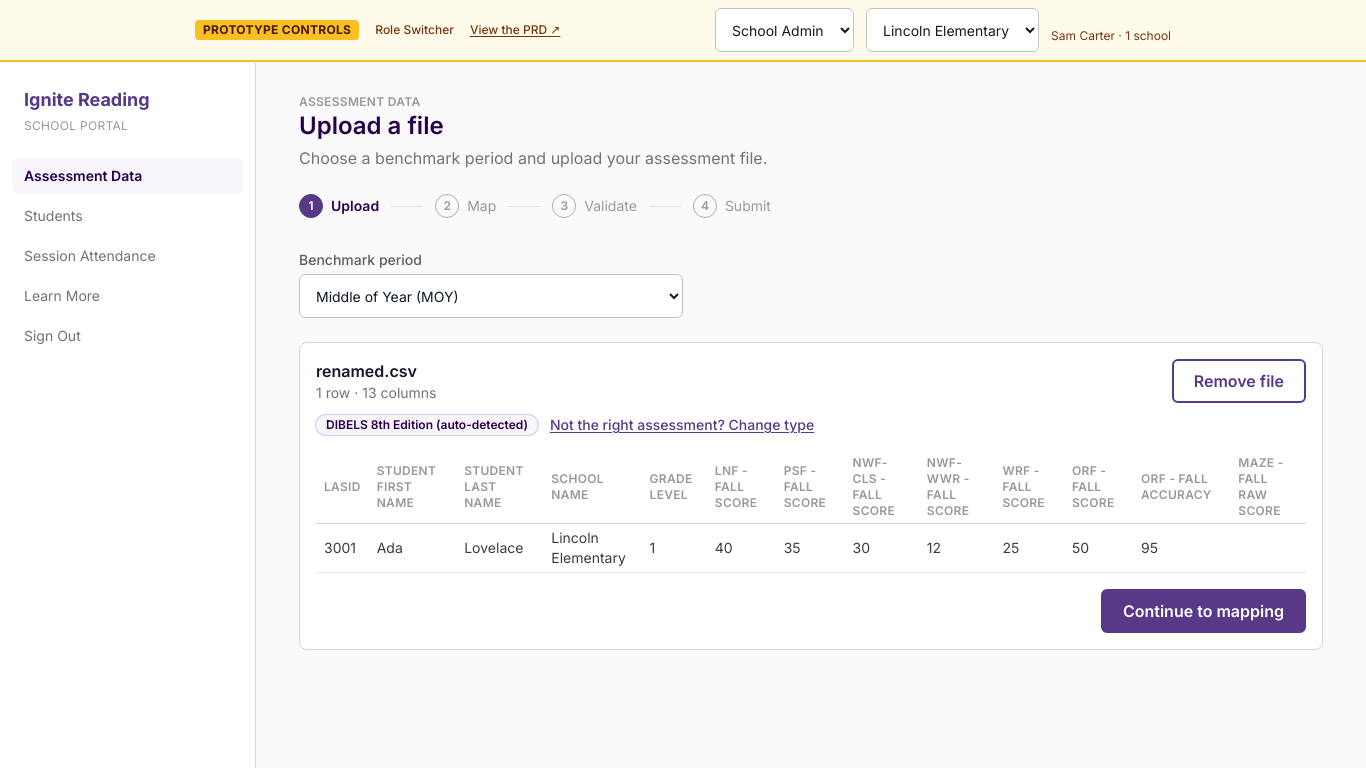
Test: US2: column mapping › auto-maps renamed headers via synonyms at High confidence
Earlier steps of the test are not shown.
Step 1. Click the button "Continue to mapping" → [1204, 611], box [1101,589,1306,633]
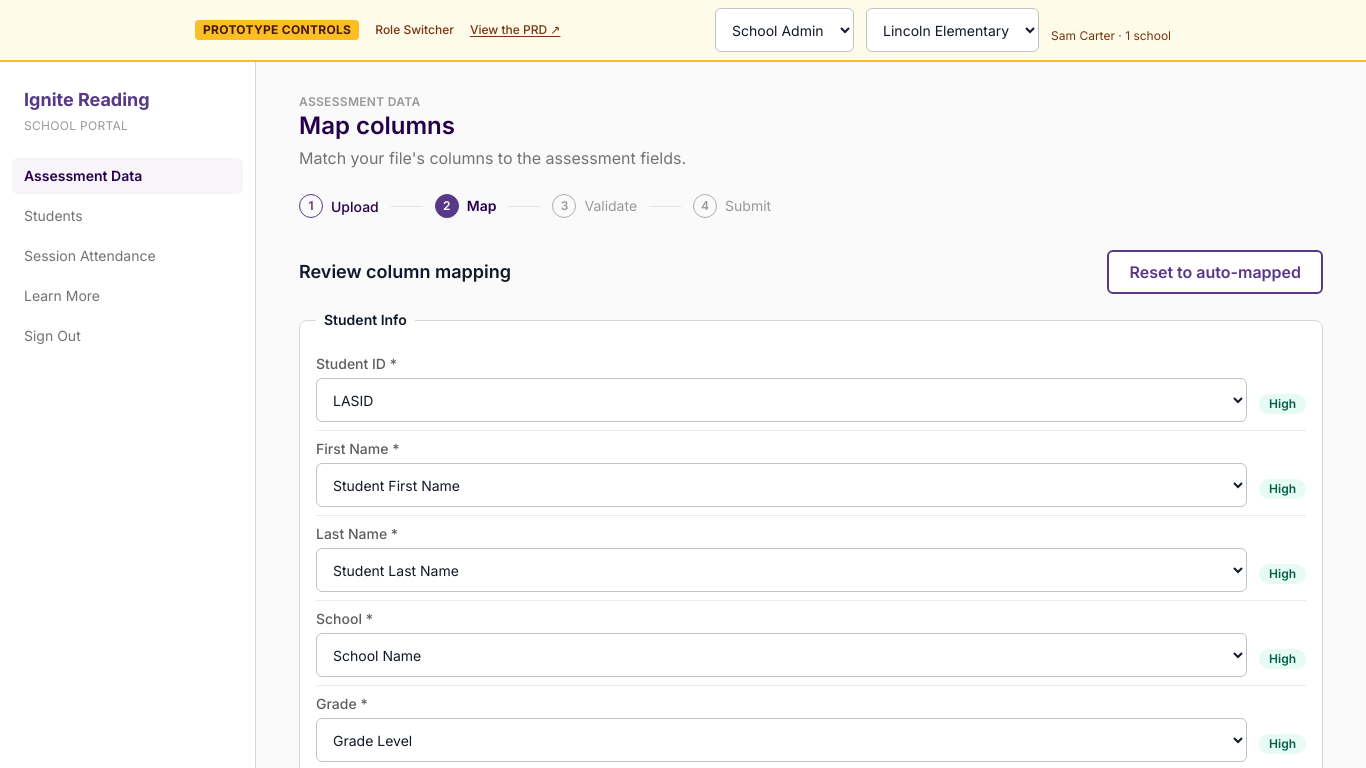
Result: the heading "Review column mapping" is shown at [299,258,511,286]
Result: the dropdown labelled "Student ID *" shows "LASID" at [316,378,1247,422]
Result: the text "Student Info" is shown at [324,311,407,328]
